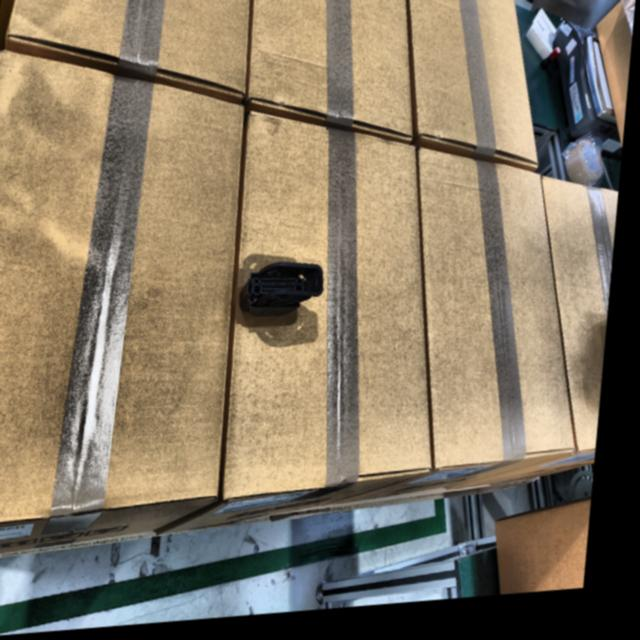P38: (245, 268, 328, 321)
